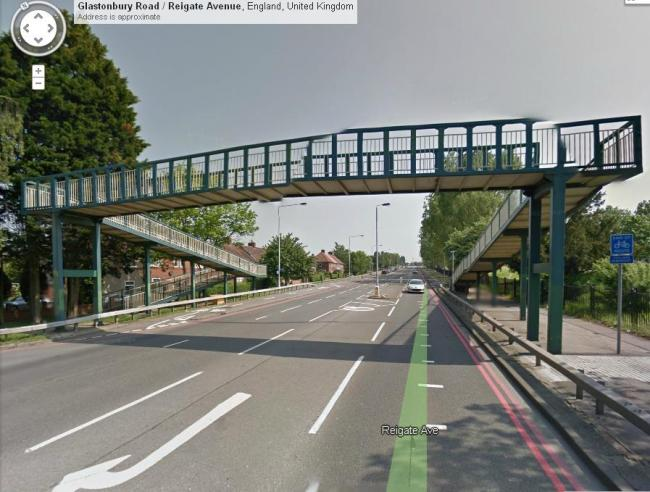bridge: (19, 113, 645, 219)
